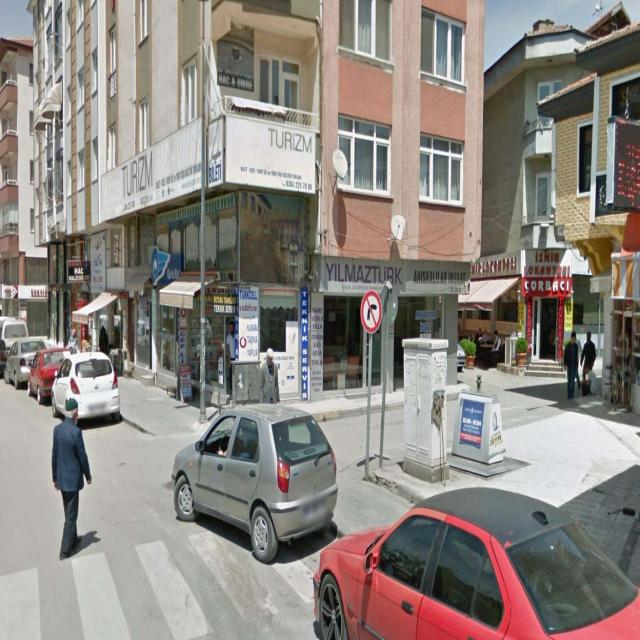sagadonulmez: (359, 288, 382, 330)
